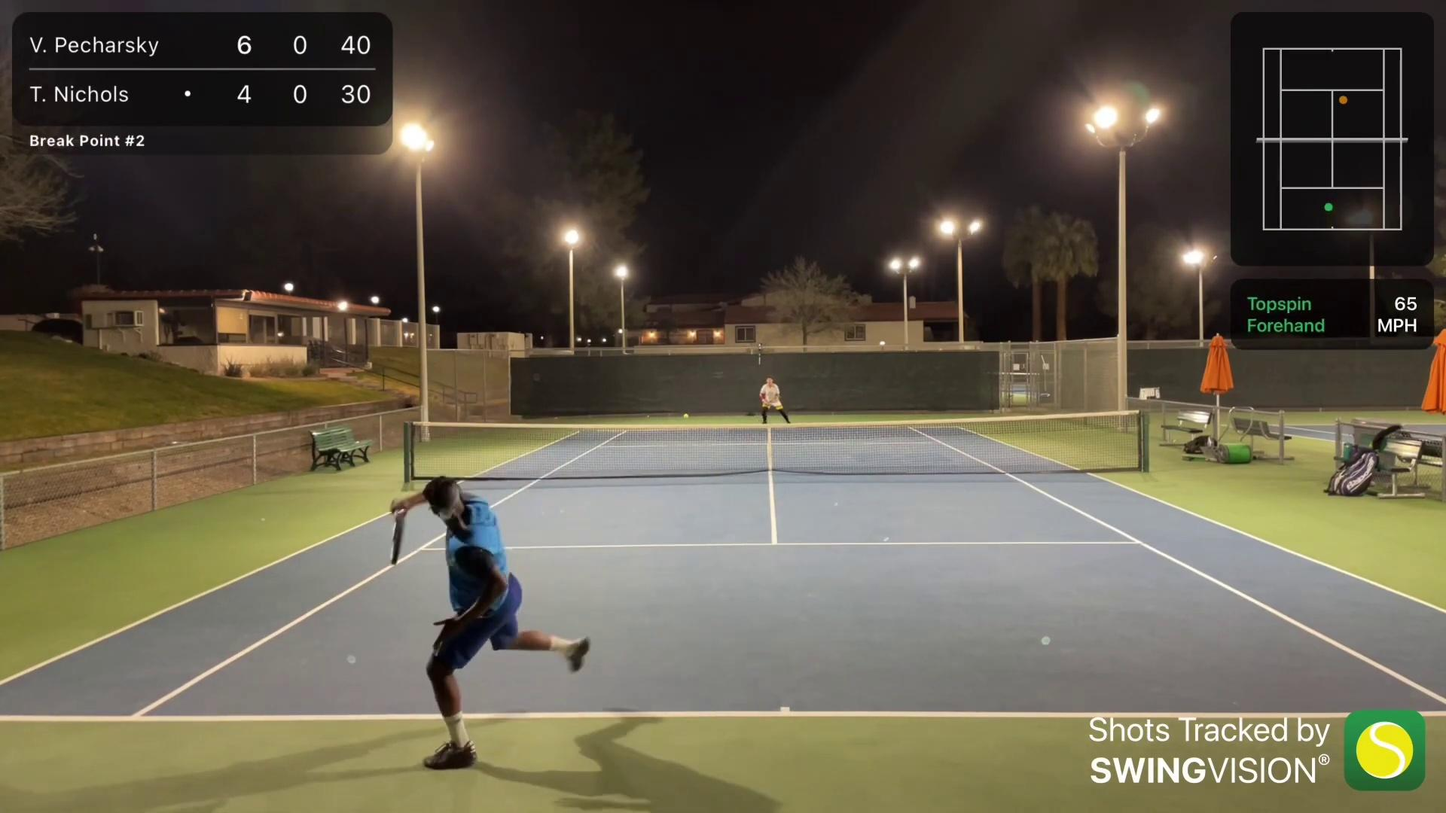ball: (678, 408, 692, 425)
